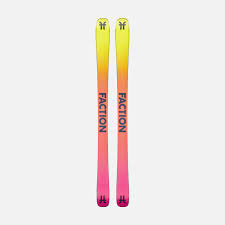skis: (93, 17, 131, 209)
